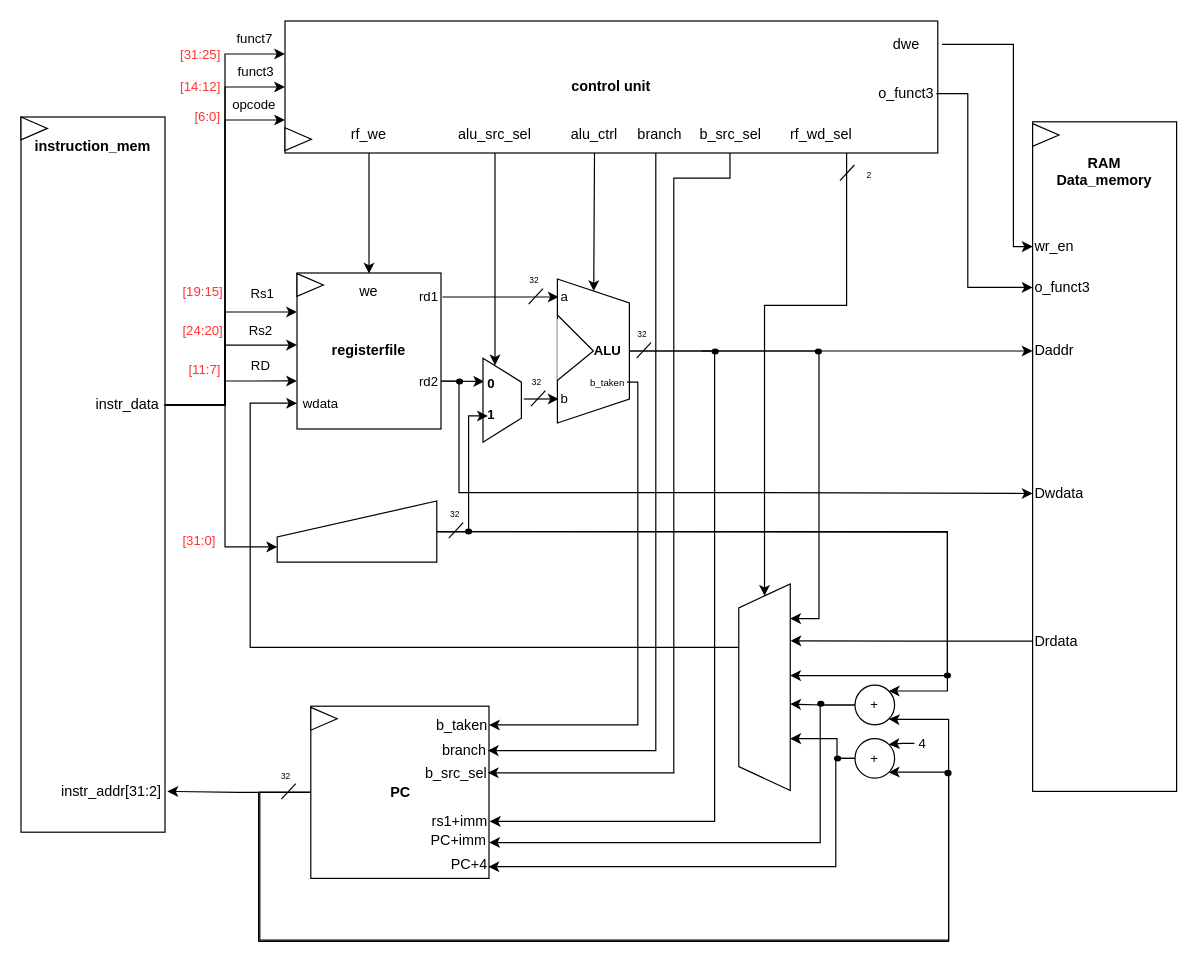
The diagram is 1198 pixels wide and 972 high, and some of its shapes have lost their labels. Here are the shapes that lost their labels. From the top down, the centre of each, then its label:
At [356,531]: "imm extender".
At [764,687]: "ALU 0 dmem 1 imm 2 imm+pc 3 pc+4 4".
